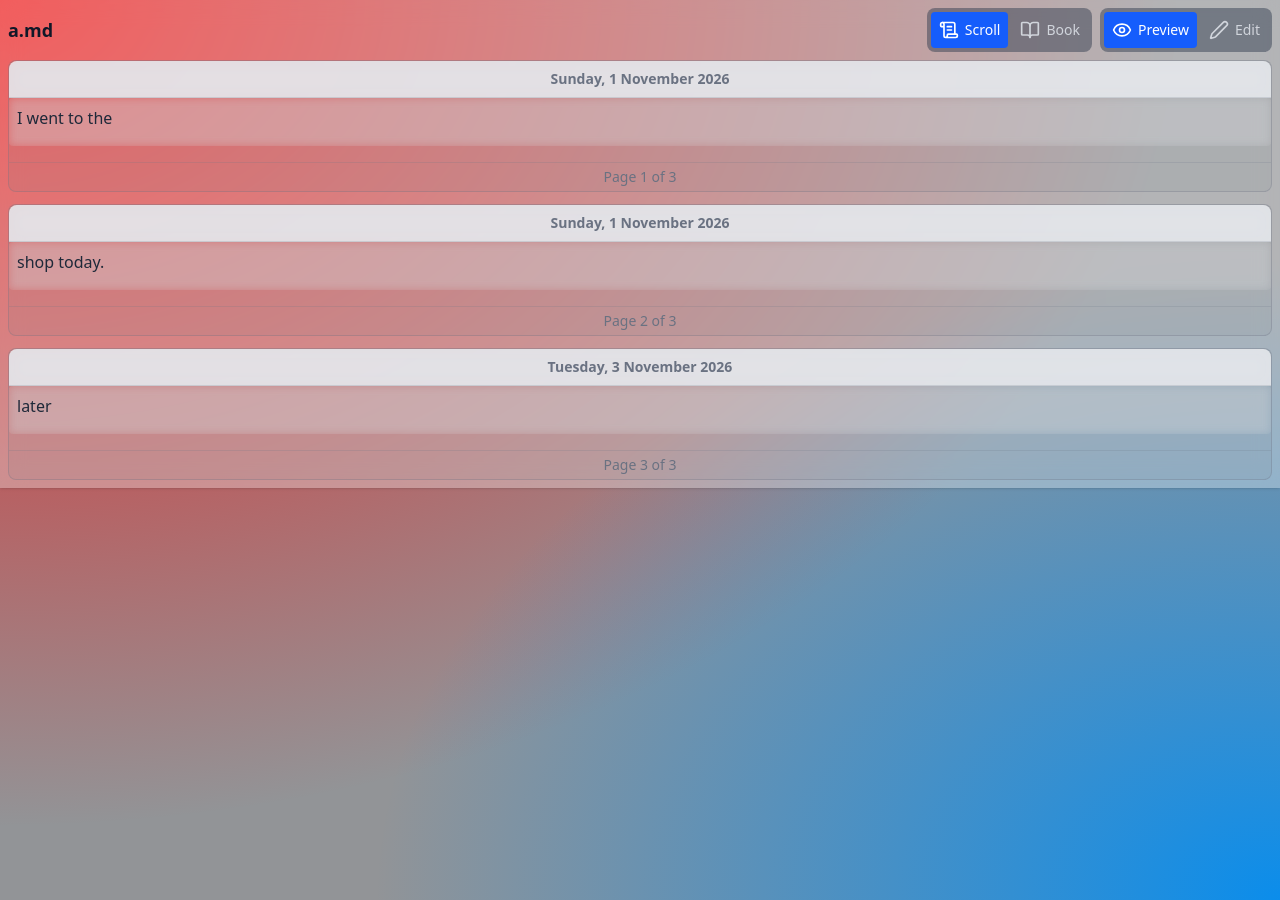
Scenario: DiaryEditor merging same-day pages › shows how many pages would disappear
Check: the field labelled "Merge same-day pages" is not shown
Click the button with aria-label "Edit mode": (1234, 30) x1=1201 y1=12 x2=1268 y2=48
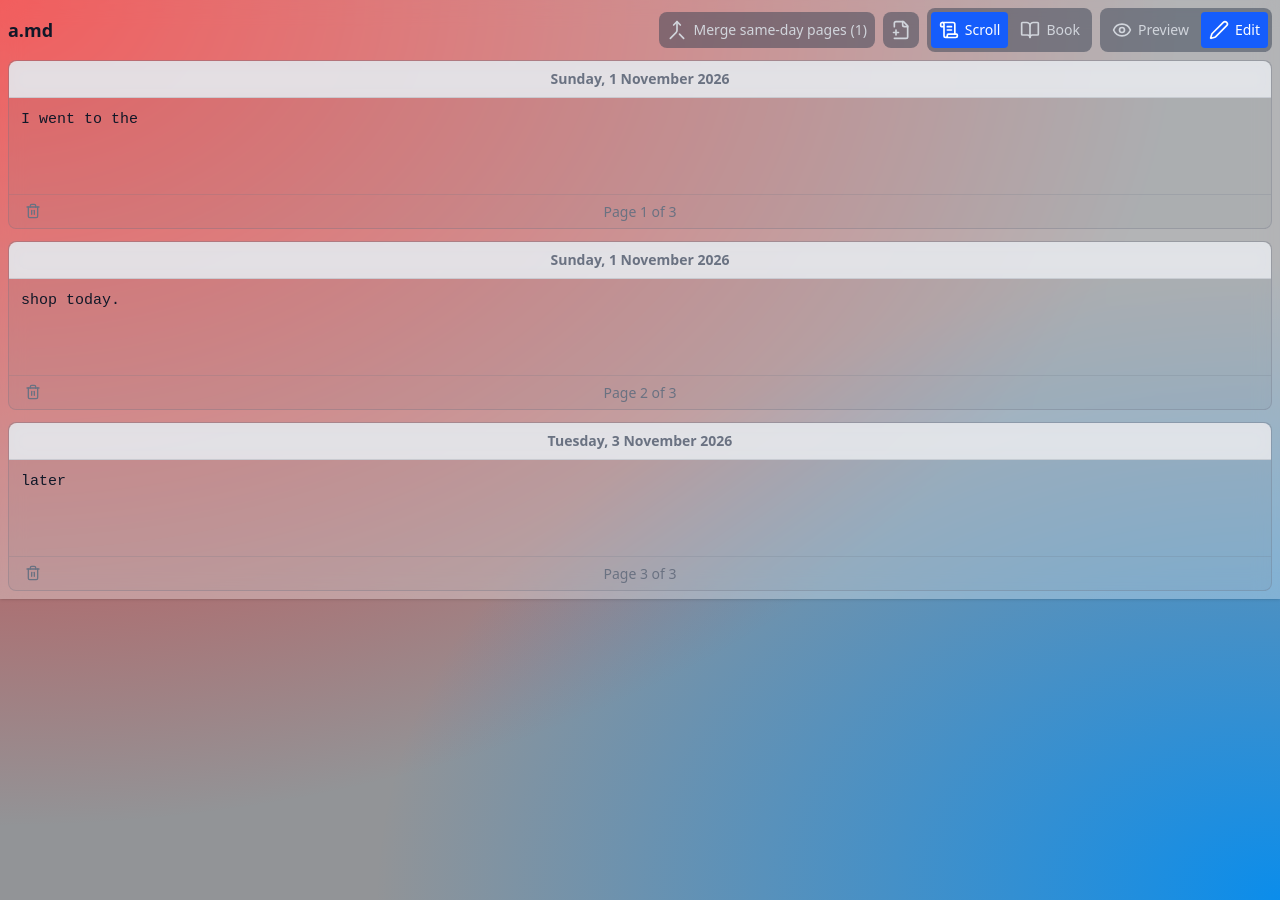
Check: the button labelled "Merge same-day pages (1)" is shown, box x1=659 y1=12 x2=875 y2=48
